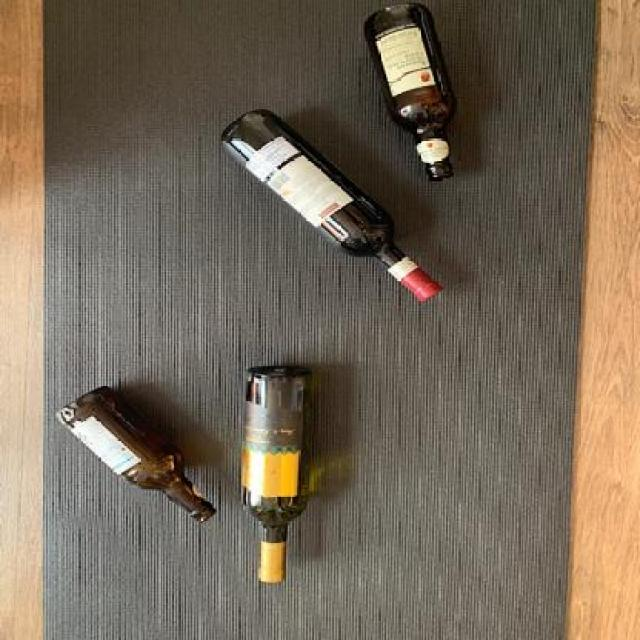trash: (218, 106, 447, 306), (52, 382, 223, 523), (360, 4, 462, 188), (235, 363, 316, 583)
